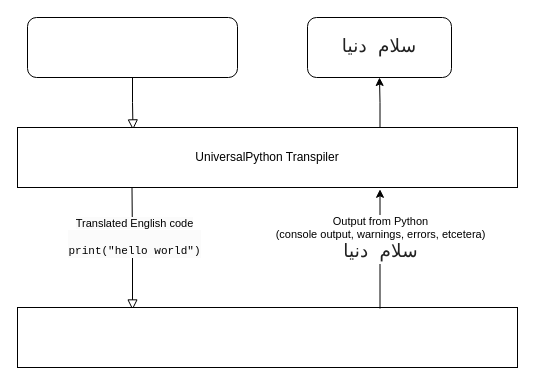
Image size: 535x385. Some labels were removed from this diagram. Each missing label, with the box of its shape:
Python: (16, 306, 518, 368)
لکھو("سلام دنیا"): (26, 16, 238, 78)
